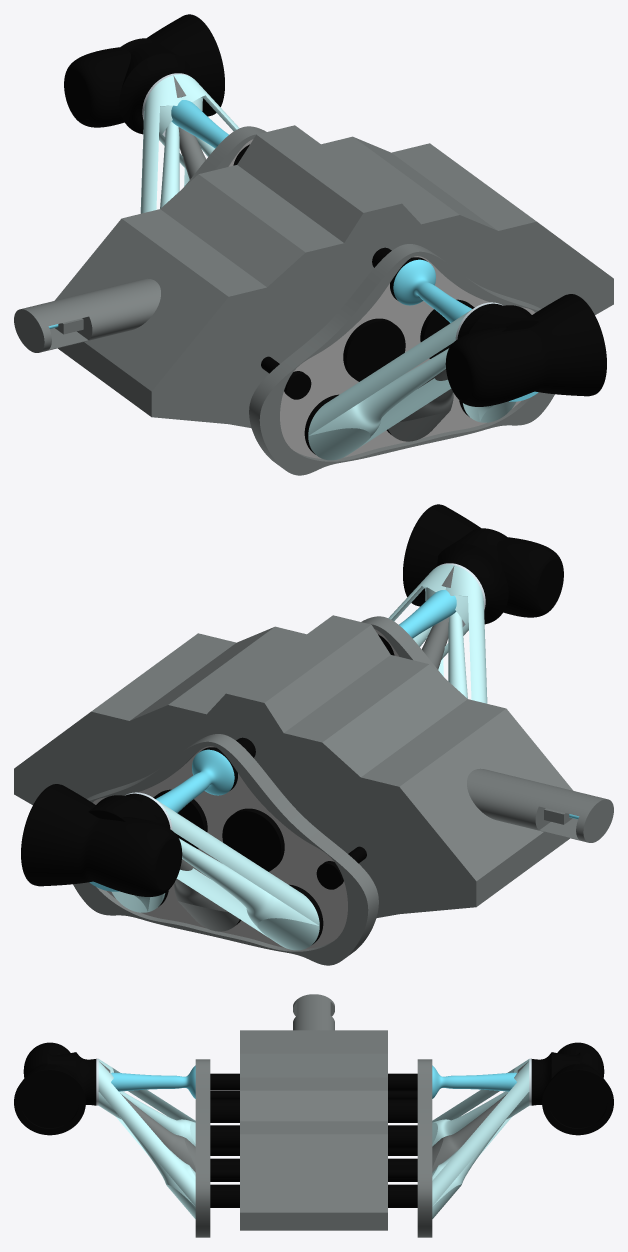
The model's file is aquaticRover.glb.
3 views of the same model, one above another, from view 1: azimuth 30°, elevation 25°; view 2: azimuth 150°, elevation 25°; view 3: azimuth 270°, elevation 25° (orthographic). The views are drawn at different scales.
Visible parts, largest first — view 1: Part 9.003, Part 6, Part 1, Part 4.002, Part 10.001, in, in 8, Part 7, in 4, Part 1.001, Part 2.001, in 6 (+7 smaller); view 2: Part 9.003, in, Part 1.003, in 8, Part 10.002, Part 6, Part 4.002, Part 7.002, Part 7.001, in 9, in 7, Part 3.001 (+7 smaller); view 3: Part 9.003, in, Part 6, in 6, Part 3.001, Part 1, Part 1.003, in 8, Part 4.002, in 9, Part 1.001, in 7 (+10 smaller).
Boxes of the visible parts, box(x1,y1,x2,y2) form: Part 9.003: box(14, 125, 613, 428); Part 6: box(445, 294, 606, 406); Part 1: box(249, 244, 554, 475); Part 4.002: box(308, 310, 470, 460); Part 10.001: box(280, 256, 534, 458); in: box(64, 14, 224, 127); in 8: box(140, 75, 202, 213); Part 7: box(343, 318, 405, 381); in 4: box(119, 53, 190, 134); Part 1.001: box(393, 259, 471, 323); Part 2.001: box(388, 369, 453, 441); in 6: box(159, 74, 239, 169); Part 9.003: box(14, 615, 613, 918); in: box(21, 784, 182, 896); Part 1.003: box(73, 734, 378, 965); in 8: box(157, 800, 319, 950); Part 10.002: box(93, 746, 347, 948); Part 6: box(403, 504, 563, 617); Part 4.002: box(425, 565, 487, 703); Part 7.002: box(222, 808, 284, 871); Part 7.001: box(436, 543, 508, 624); in 9: box(156, 749, 234, 813); in 7: box(174, 859, 239, 931); Part 3.001: box(388, 564, 468, 659); Part 9.003: box(210, 994, 387, 1230); in: box(542, 1042, 613, 1135); Part 6: box(14, 1042, 85, 1135); in 6: box(432, 1061, 529, 1218); Part 3.001: box(98, 1061, 195, 1218); Part 1: box(195, 1059, 210, 1237); Part 1.003: box(417, 1059, 432, 1237); in 8: box(432, 1059, 529, 1146); Part 4.002: box(98, 1059, 195, 1146); in 9: box(432, 1065, 516, 1098); Part 1.001: box(111, 1065, 195, 1098); in 7: box(432, 1061, 528, 1172).
Bounding box in the file's own units: 4.37 × 1.72 × 6.18.
Materials: 10 (9 with a texture image).
